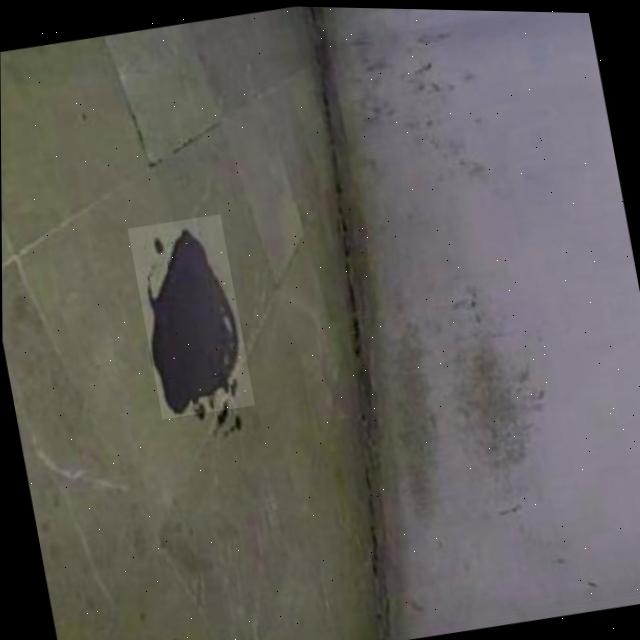spillage: (146, 219, 237, 416)
